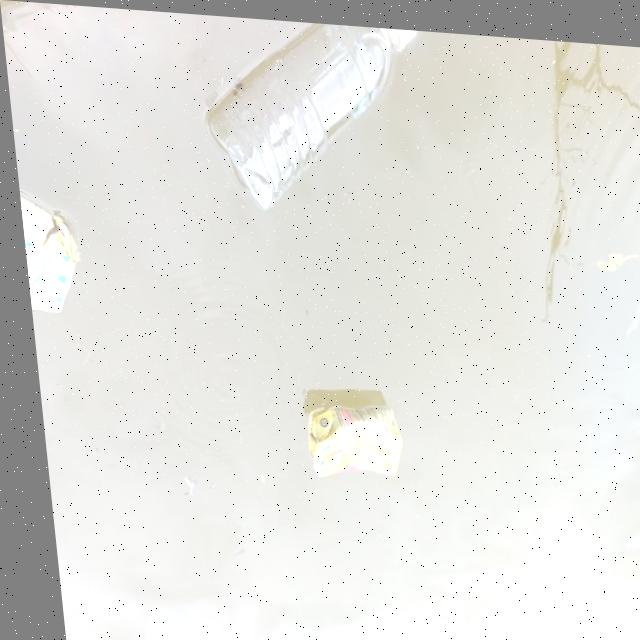paper: (277, 368, 414, 487), (15, 186, 90, 328)
waterbottle: (168, 10, 443, 196)
